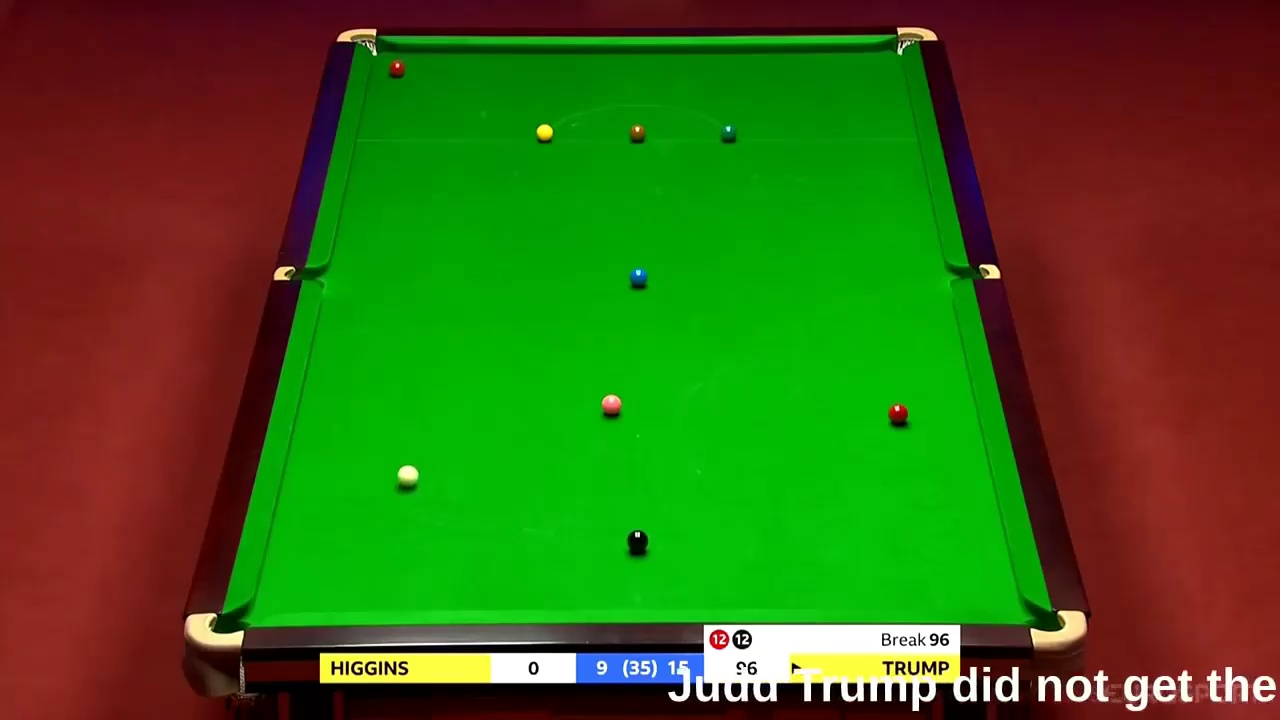ball: (626, 525, 651, 552), (394, 464, 422, 488), (716, 121, 742, 146), (887, 399, 908, 426), (599, 395, 622, 418), (385, 58, 408, 77), (629, 266, 648, 286), (629, 122, 646, 143), (534, 122, 553, 140)
